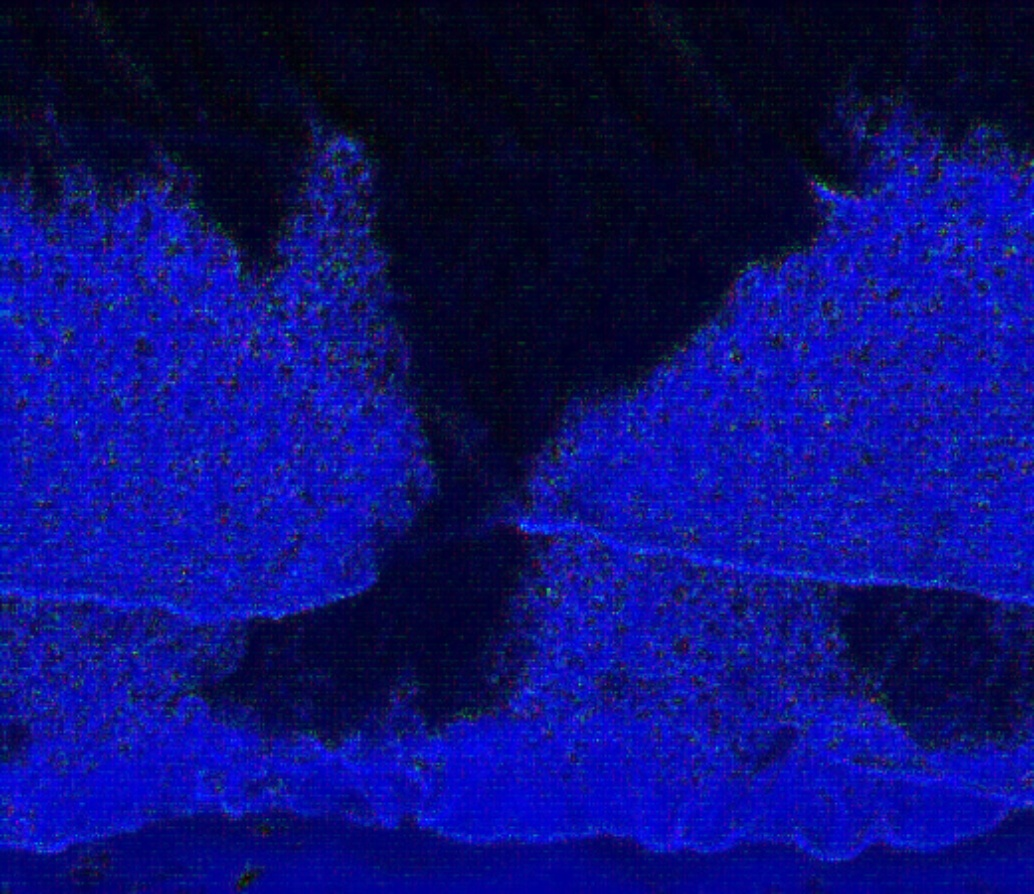rip_current: (245, 90, 711, 721)
